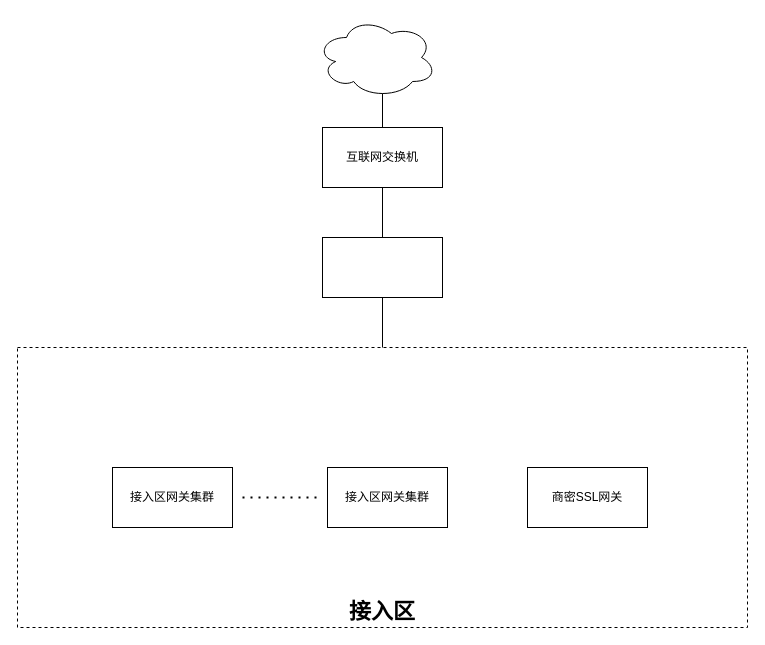
This 765x645 diagram has some shape labels left out. The centre of each missing label's shape, as x and y in pixels:
"互联网" goes at (x=376, y=57).
"互联网防火墙" goes at (x=382, y=267).
